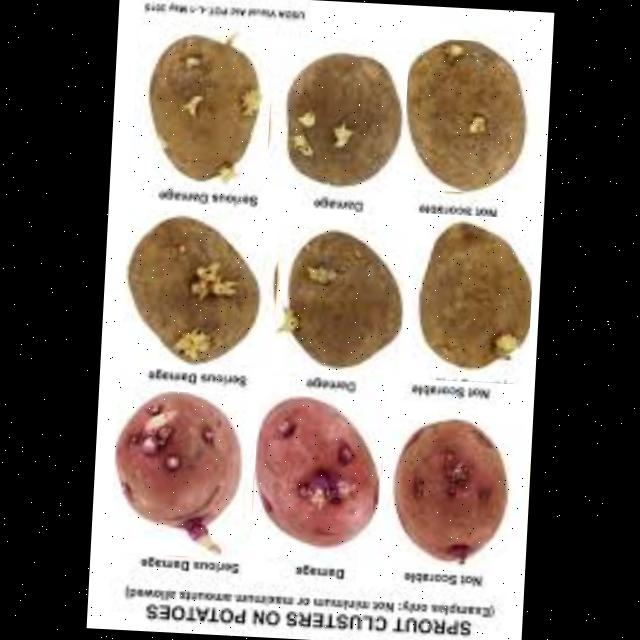Defected potato: (250, 391, 384, 561), (382, 406, 511, 572)
Sprouted potato: (118, 208, 280, 374), (396, 211, 535, 384), (130, 20, 272, 189), (109, 388, 247, 558), (389, 36, 535, 194), (266, 225, 408, 378), (265, 45, 408, 196)
